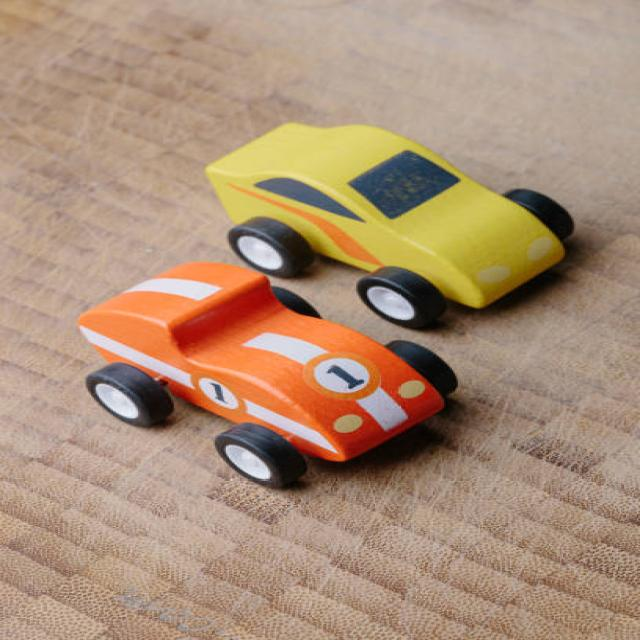Car: (75, 260, 458, 488), (202, 120, 574, 328)
